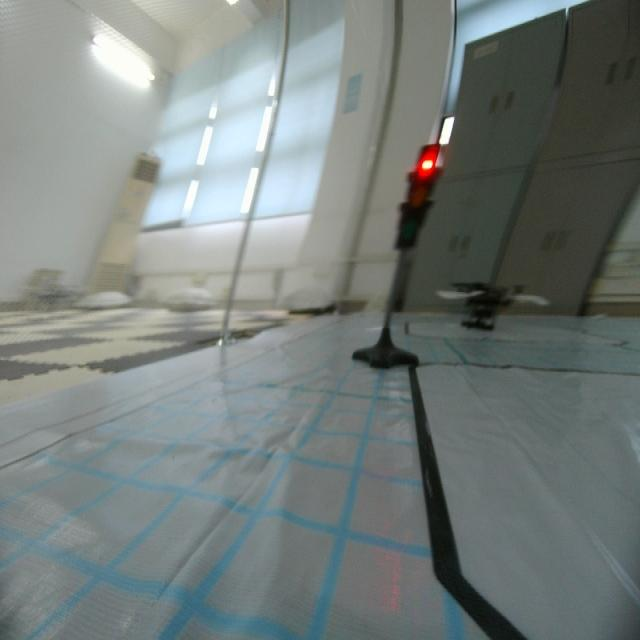red: (390, 140, 444, 261)
